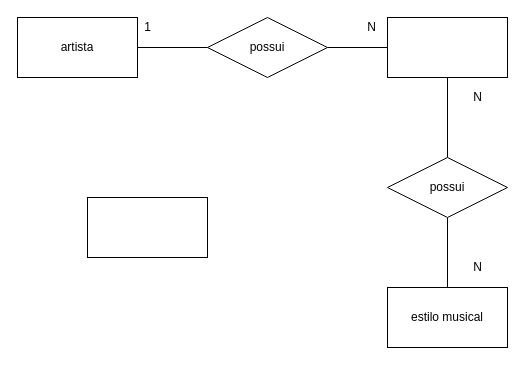
The diagram is 525 pixels wide and 365 high, and some of its shapes have lost their labels. Each missing label, with the centre of its shape:
"usuário" goes at point (147, 227).
"álbum" goes at point (447, 47).
